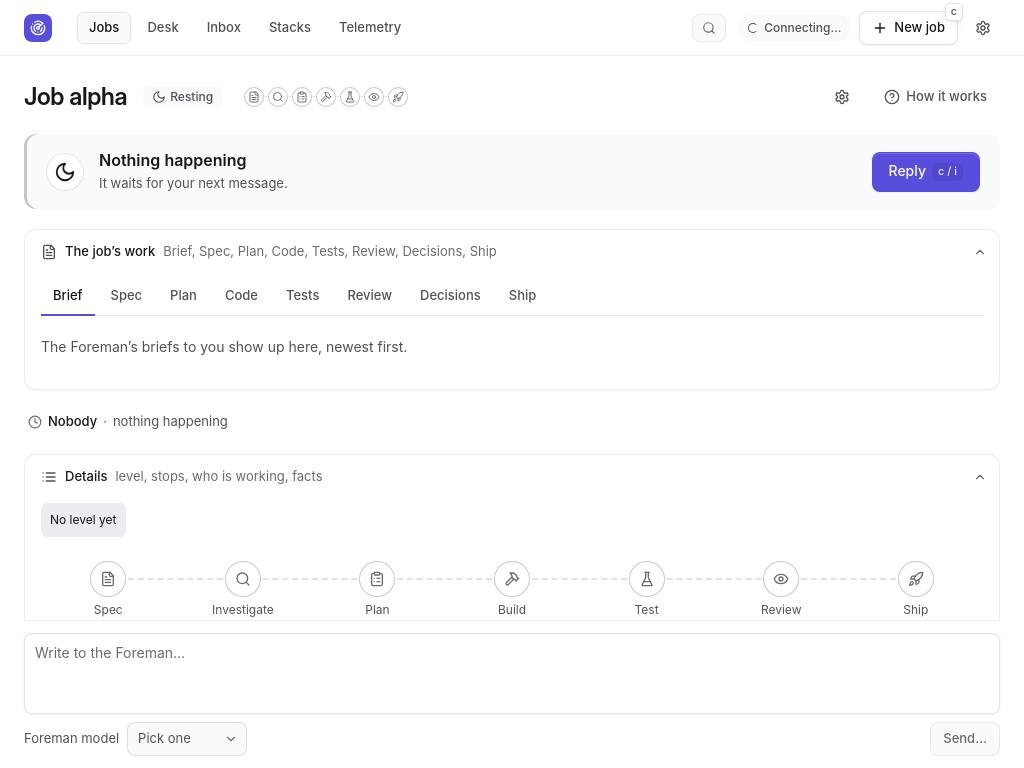
it: App shell › ⌘K opens the palette with only the actions valid now; picking one runs it
Expected: the heading "Job alpha" is shown, [24,82,127,112]
Press k
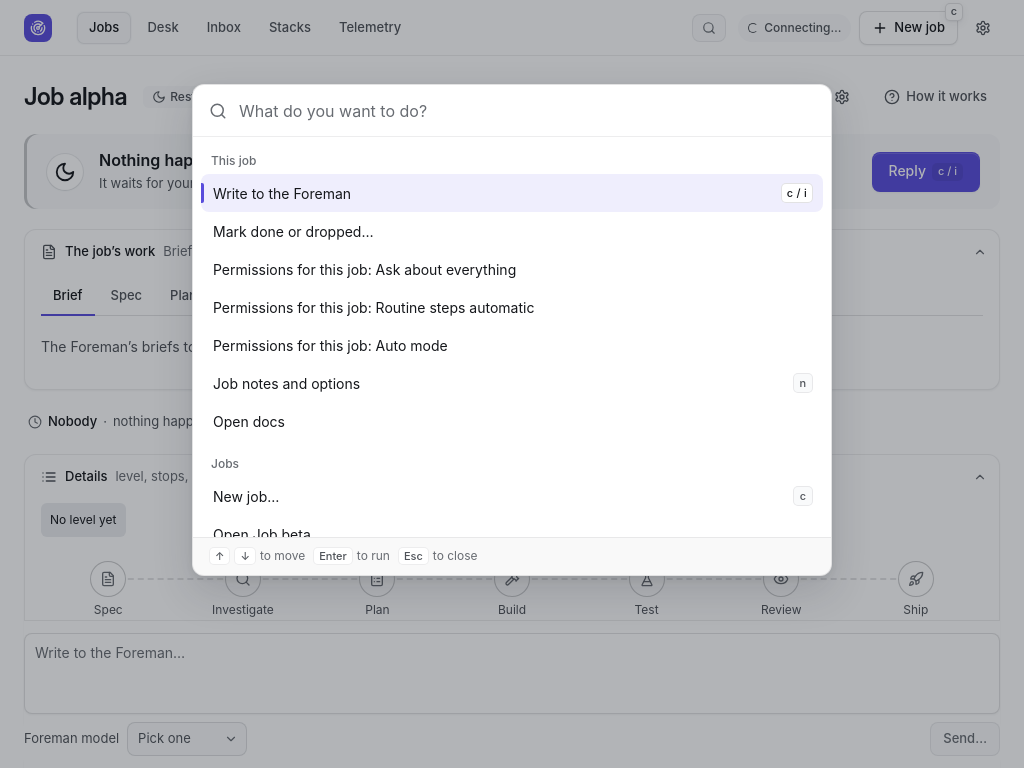
Type "open beta" into the dropdown named "Search actions".
click(527, 111); type("open beta")  # box [239,86,815,136]
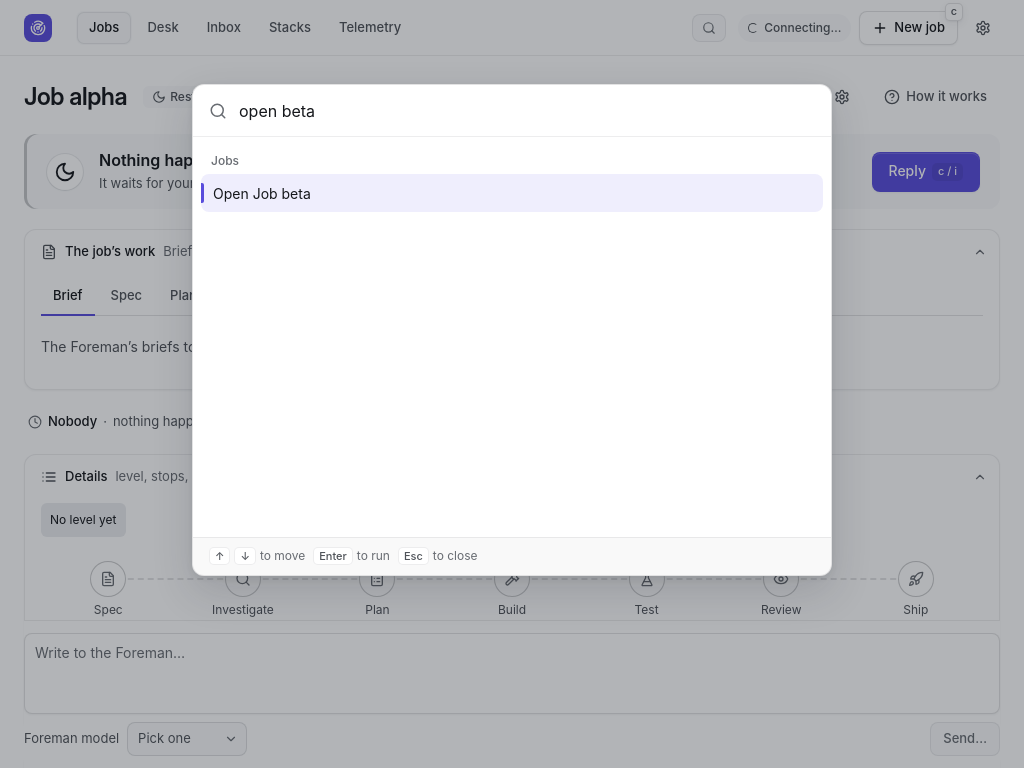
Press Enter in the dropdown named "Search actions", box [239,86,815,136]
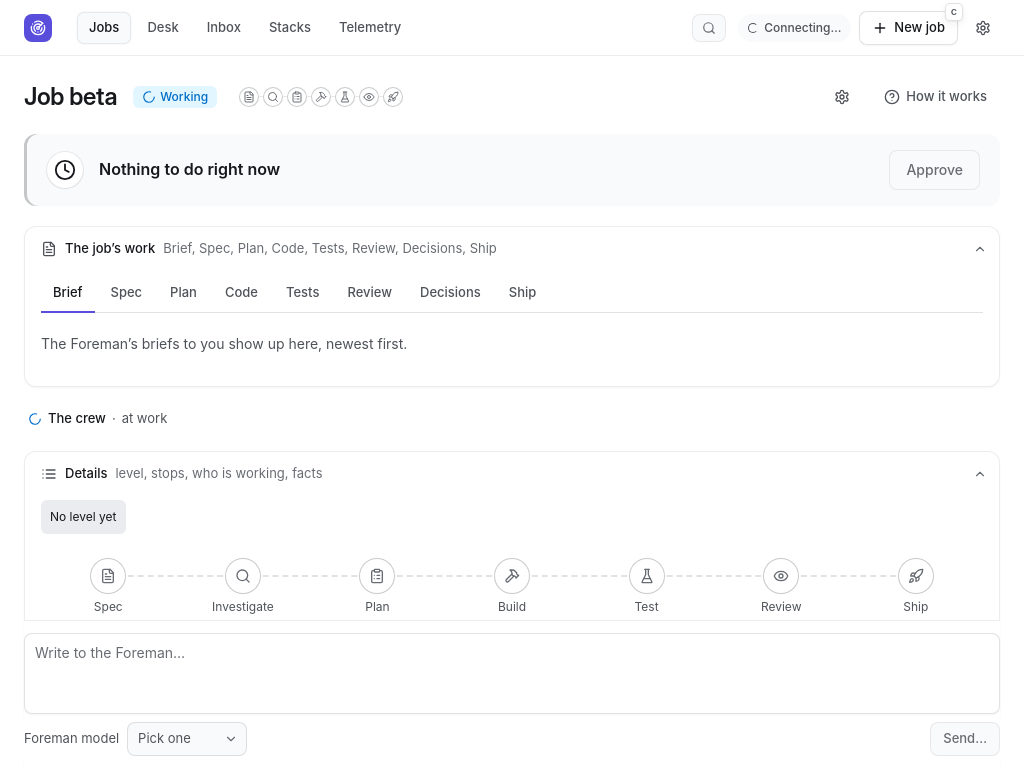
Expected: the dialog "Command palette" is gone
